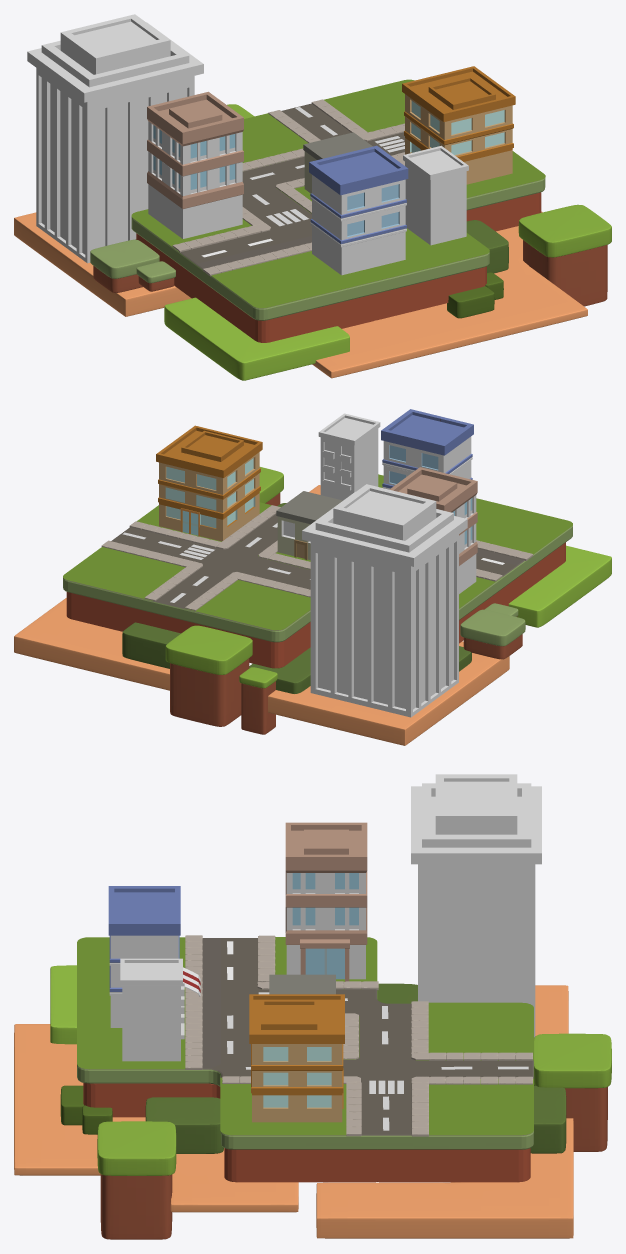
The model's file is CenarioPorto.fbx.
3 views of the same model, one above another, from view 1: azimuth 30°, elevation 25°; view 2: azimuth 150°, elevation 25°; view 3: azimuth 270°, elevation 25° (orthographic). The views are drawn at different scales.
Visible parts, largest first — view 1: Solos, chao1.001, Cube.004, Cube.002, Cube, Cube.001, chao1.002, Cube.005, bloco01.001, Cube.006, Plane.001; view 2: Solos, Cube.004, chao1.001, Cube.001, chao1.002, Cube, bloco01.001, Cube.005, Cube.002, Cube.006, Plane.001; view 3: Solos, chao1.001, Cube.004, chao1.002, Cube.002, Cube.001, bloco01.001, Cube.005, Cube, Plane.001, Cube.006.
Part boxes in pixels (x1,y1,x2,y2): Solos: (14, 104, 611, 380); chao1.001: (131, 79, 545, 320); Cube.004: (27, 14, 203, 263); Cube.002: (147, 91, 243, 238); Cube: (309, 145, 408, 275); Cube.001: (402, 66, 515, 184); chao1.002: (136, 192, 541, 342); Cube.005: (403, 145, 468, 245); bloco01.001: (172, 99, 404, 276); Cube.006: (303, 132, 372, 193); Plane.001: (201, 107, 404, 257); Solos: (14, 467, 611, 745); Cube.004: (302, 484, 467, 717); chao1.001: (63, 474, 572, 642); Cube.001: (156, 425, 262, 541); chao1.002: (66, 542, 565, 668); Cube: (381, 409, 473, 489); bloco01.001: (101, 505, 533, 611); Cube.005: (318, 413, 380, 500); Cube.002: (389, 467, 477, 593); Cube.006: (276, 491, 342, 560); Plane.001: (122, 523, 504, 602); Solos: (14, 965, 611, 1239); chao1.001: (77, 937, 533, 1149); Cube.004: (411, 774, 541, 1037); chao1.002: (83, 1083, 530, 1182); Cube.002: (285, 822, 367, 981); Cube.001: (249, 994, 344, 1122); bloco01.001: (185, 935, 532, 1136); Cube.005: (120, 958, 184, 1061); Cube: (108, 886, 180, 1027); Plane.001: (227, 941, 528, 1130); Cube.006: (269, 974, 335, 994).
Size of the model in its own units: 626 by 326 by 653.
